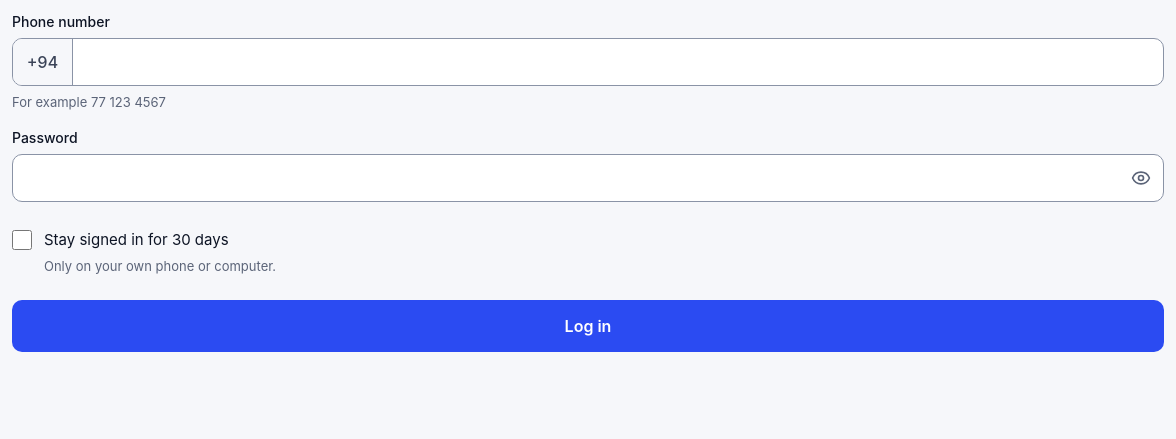
Test: StudentLoginForm › explains a network failure
This screenshot has width=1176, height=439.
Type "077 123 4567" into the field labelled "Phone number" at (618,62), box [73,39,1163,85]
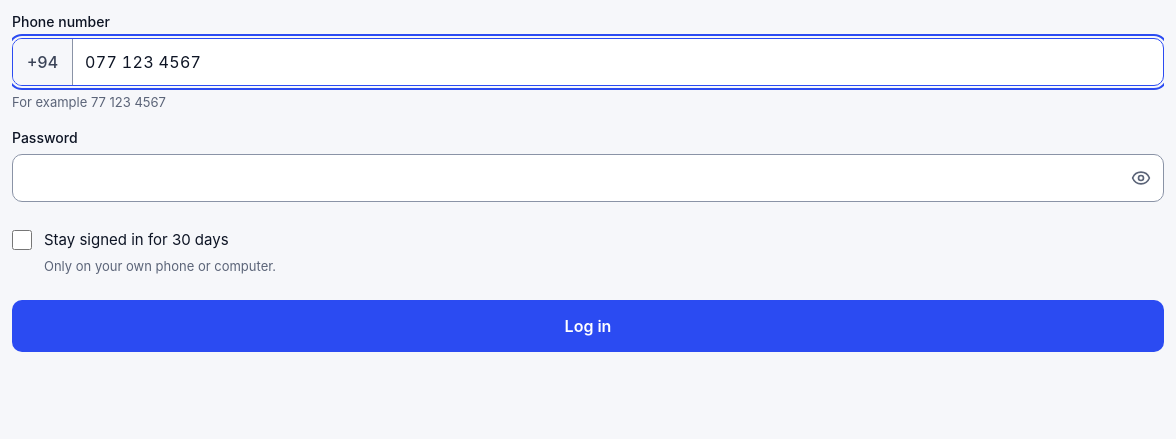
Type "correct-horse" into the password field labelled "Password" at (566,178), box [13,155,1119,201]
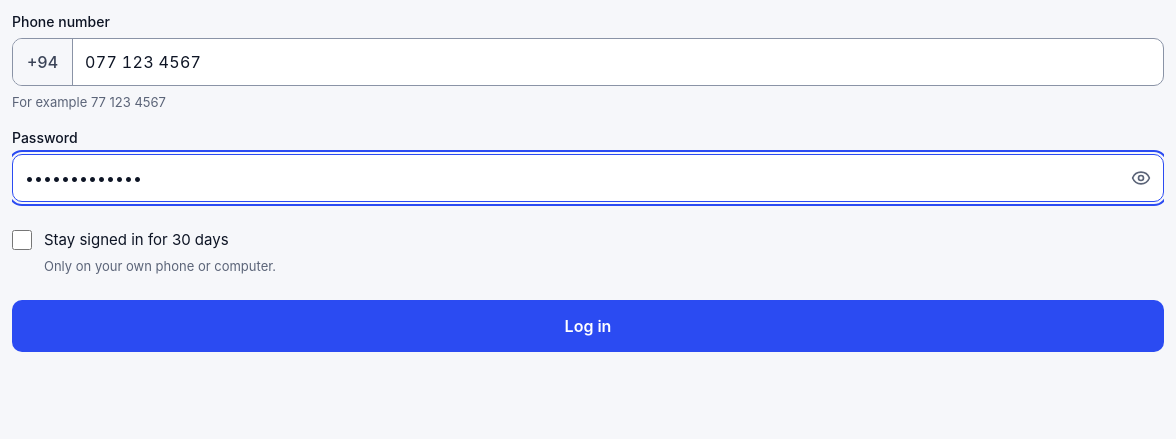
Click the button "Log in" at (588,326), box [12,300,1164,352]
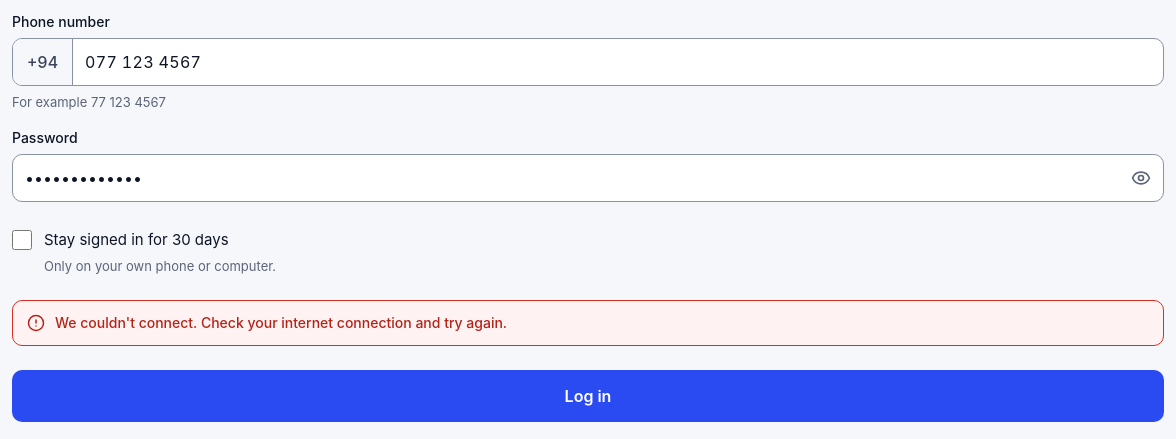
Result: the message reads "We couldn't connect. Check your internet connection and try again." at [55,314,507,331]
